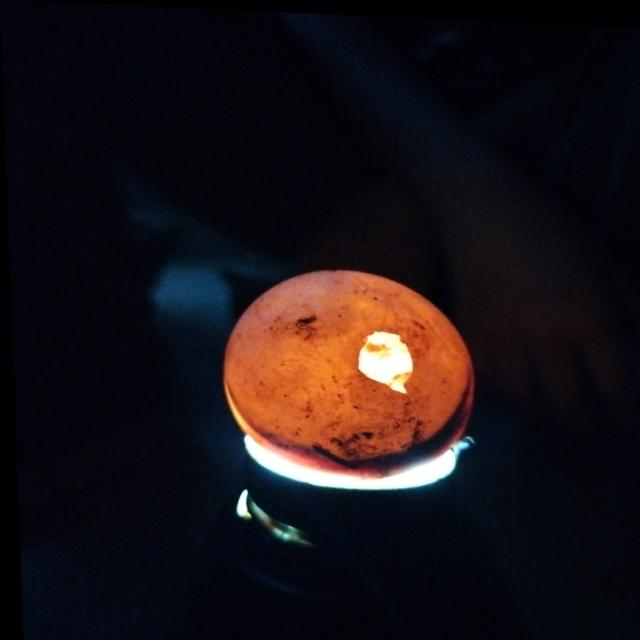Area Infectada: (223, 363, 469, 471)
